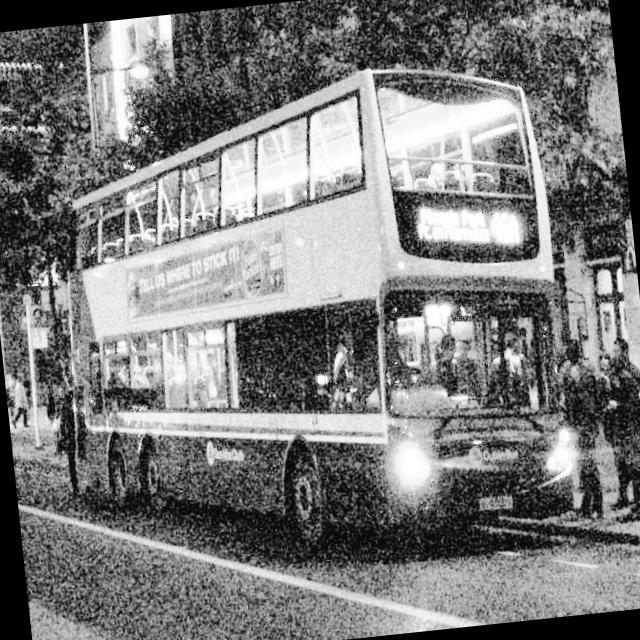Bus: (46, 70, 605, 577)
